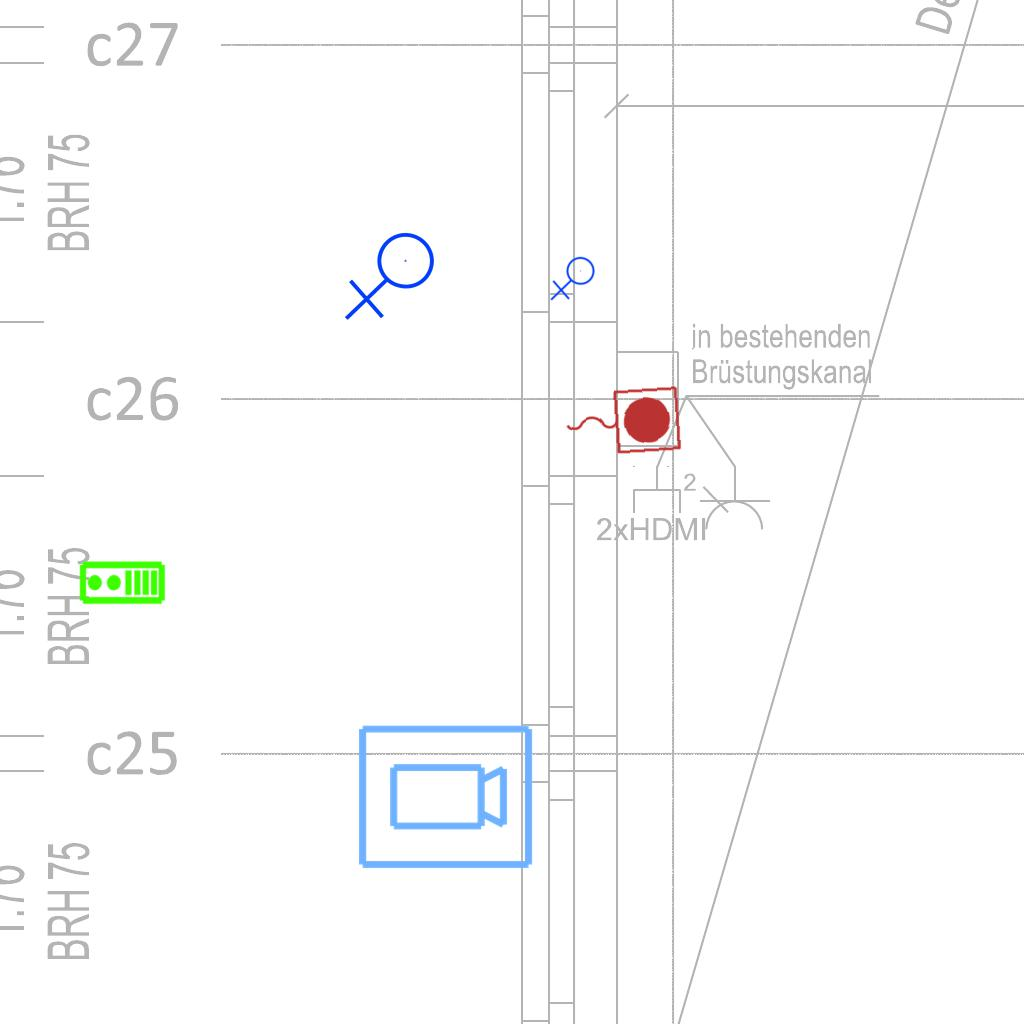Elektroanschluss_allgemein_230V_Geraeteanschlussdose_230V: (344, 231, 443, 325), (550, 256, 599, 303)
Gegensprechanlage_mit_Video: (78, 560, 166, 607)
KFO_Kamera_mit_Festobjektiv: (354, 721, 536, 875)
Zugtaster: (558, 380, 686, 462)
